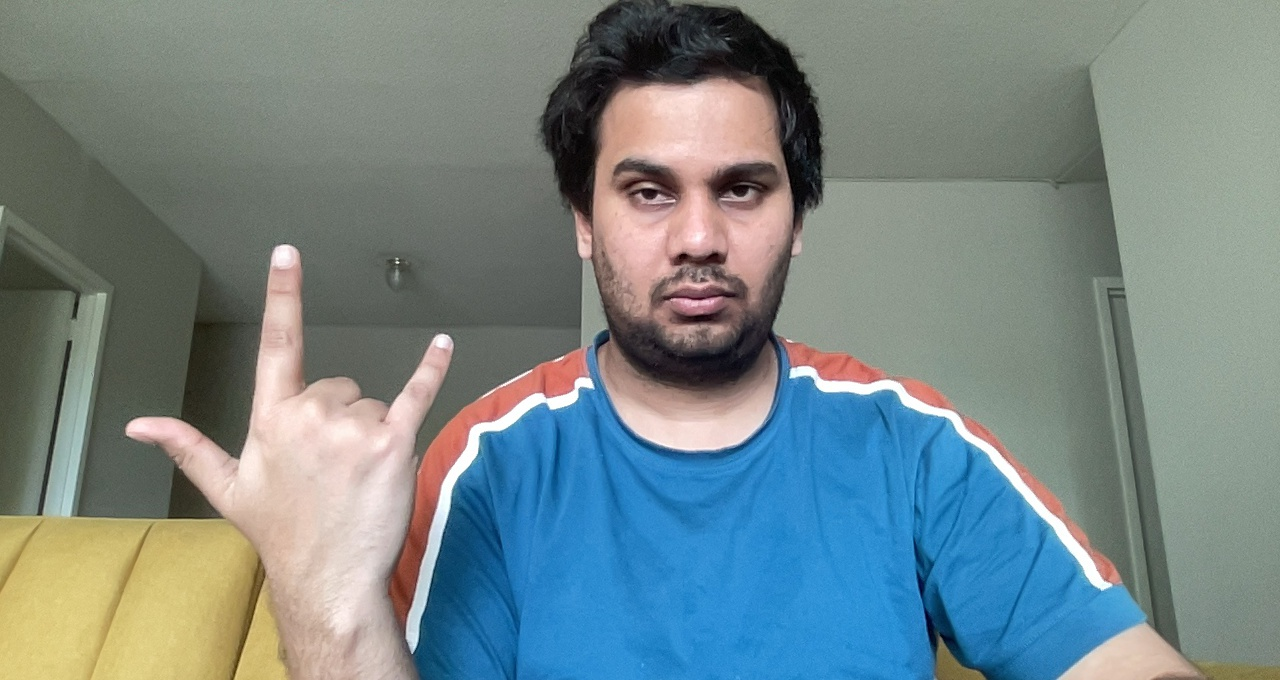rockon sign: (121, 228, 462, 621)
